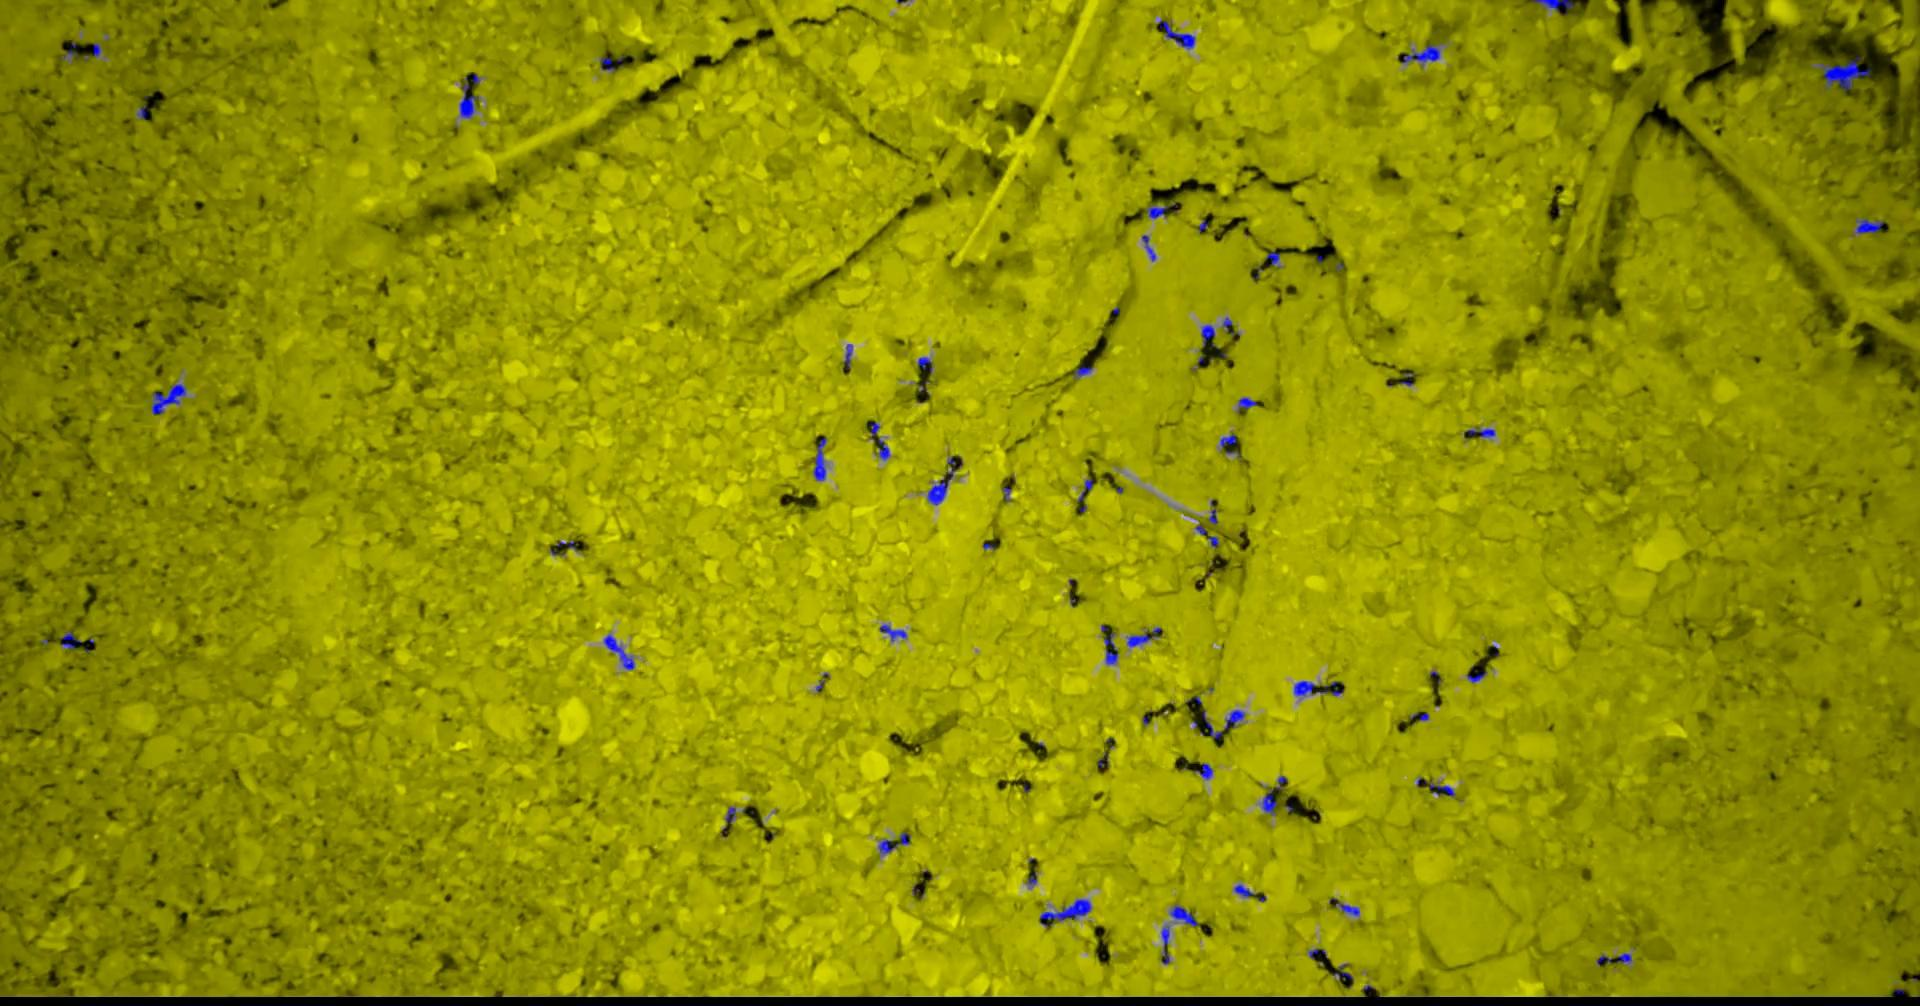ant: (1821, 56, 1870, 90), (930, 456, 964, 504), (1041, 899, 1092, 927), (604, 634, 636, 669), (152, 384, 187, 414), (1161, 19, 1196, 48), (1263, 776, 1289, 814), (461, 76, 480, 117), (1295, 680, 1345, 695), (1404, 44, 1441, 64), (880, 831, 910, 854), (1128, 627, 1162, 647), (1171, 904, 1199, 926), (1534, 0, 1575, 14), (1204, 709, 1223, 738), (815, 437, 828, 480), (1105, 633, 1120, 664), (881, 624, 908, 640), (1225, 709, 1246, 730), (1857, 218, 1884, 232), (1078, 478, 1095, 500), (1143, 234, 1157, 260), (1431, 782, 1457, 796), (1335, 963, 1354, 981), (62, 631, 83, 648), (1147, 205, 1170, 218), (1203, 324, 1217, 345), (1236, 883, 1257, 897), (879, 437, 891, 460), (1338, 902, 1361, 915), (1163, 925, 1171, 963), (1467, 428, 1497, 437), (1196, 763, 1214, 779), (1209, 499, 1219, 525), (1222, 433, 1238, 448), (1076, 365, 1095, 377), (919, 356, 933, 372), (846, 343, 855, 368), (602, 56, 616, 71), (1269, 251, 1281, 267), (1239, 398, 1258, 408), (728, 807, 737, 823), (1618, 953, 1633, 962)
